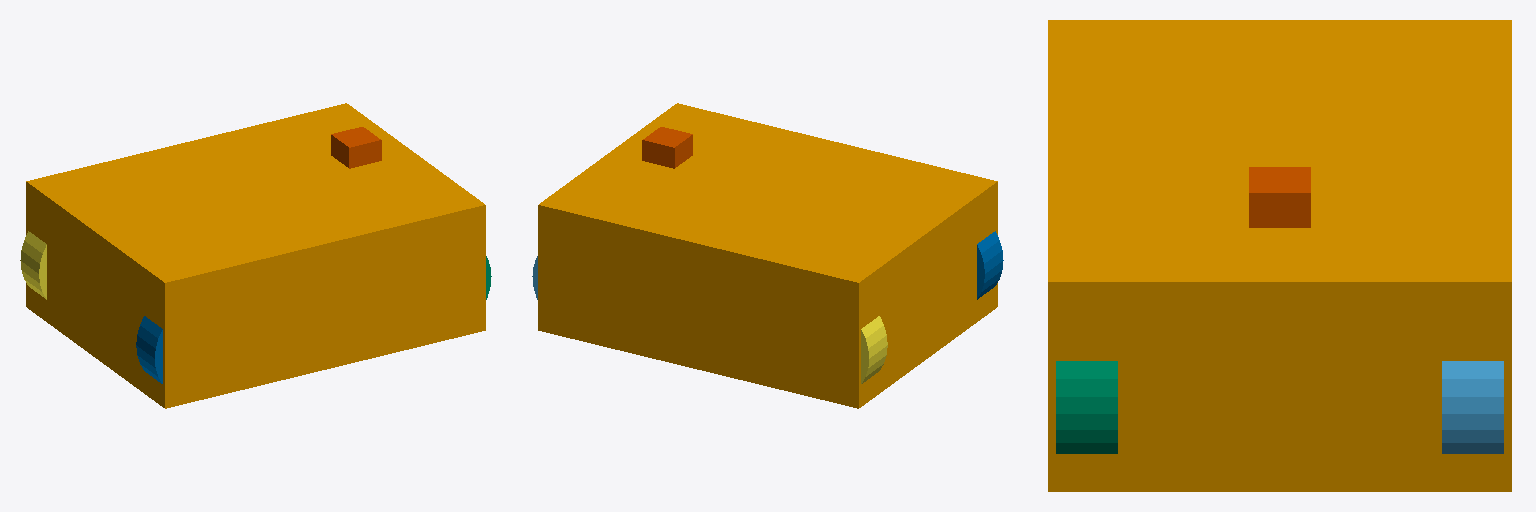
URDF robot description (mock_rover):
<?xml version="1.0" ?>
<!-- =================================================================================== -->
<!-- |    This document was autogenerated by xacro from urdf/rover.urdf.xacro          | -->
<!-- |    EDITING THIS FILE BY HAND IS NOT RECOMMENDED                                 | -->
<!-- =================================================================================== -->
<robot name="mock_rover">
  <link name="base_link">
    <inertial>
      <origin xyz="0 0 0"/>
      <mass value="30"/>
      <inertia ixx="2.0" ixy="0" ixz="0" iyy="2.0" iyz="0" izz="2.0"/>
    </inertial>
    <visual>
      <origin xyz="0 0 0.15"/>
      <geometry>
        <box size="0.8 0.6 0.3"/>
      </geometry>
    </visual>
    <collision>
      <origin xyz="0 0 0.15"/>
      <geometry>
        <box size="0.8 0.6 0.3"/>
      </geometry>
    </collision>
  </link>
  <link name="front_left_wheel">
    <visual>
      <origin rpy="1.5708 0 0"/>
      <geometry>
        <cylinder length="0.08" radius="0.12"/>
      </geometry>
    </visual>
    <collision>
      <origin rpy="1.5708 0 0"/>
      <geometry>
        <cylinder length="0.08" radius="0.12"/>
      </geometry>
    </collision>
    <inertial>
      <mass value="1"/>
      <origin xyz="0 0 0"/>
      <inertia ixx="0.01" ixy="0" ixz="0" iyy="0.01" iyz="0" izz="0.01"/>
    </inertial>
  </link>
  <joint name="front_left_joint" type="continuous">
    <parent link="base_link"/>
    <child link="front_left_wheel"/>
    <origin xyz="0.3 0.25 0.12"/>
    <axis xyz="0 1 0"/>
  </joint>
  <link name="front_right_wheel">
    <visual>
      <origin rpy="1.5708 0 0"/>
      <geometry>
        <cylinder length="0.08" radius="0.12"/>
      </geometry>
    </visual>
    <collision>
      <origin rpy="1.5708 0 0"/>
      <geometry>
        <cylinder length="0.08" radius="0.12"/>
      </geometry>
    </collision>
    <inertial>
      <mass value="1"/>
      <origin xyz="0 0 0"/>
      <inertia ixx="0.01" ixy="0" ixz="0" iyy="0.01" iyz="0" izz="0.01"/>
    </inertial>
  </link>
  <joint name="front_right_joint" type="continuous">
    <parent link="base_link"/>
    <child link="front_right_wheel"/>
    <origin xyz="0.3 -0.25 0.12"/>
    <axis xyz="0 1 0"/>
  </joint>
  <link name="rear_left_wheel">
    <visual>
      <origin rpy="1.5708 0 0"/>
      <geometry>
        <cylinder length="0.08" radius="0.12"/>
      </geometry>
    </visual>
    <collision>
      <origin rpy="1.5708 0 0"/>
      <geometry>
        <cylinder length="0.08" radius="0.12"/>
      </geometry>
    </collision>
    <inertial>
      <mass value="1"/>
      <origin xyz="0 0 0"/>
      <inertia ixx="0.01" ixy="0" ixz="0" iyy="0.01" iyz="0" izz="0.01"/>
    </inertial>
  </link>
  <joint name="rear_left_joint" type="continuous">
    <parent link="base_link"/>
    <child link="rear_left_wheel"/>
    <origin xyz="-0.3 0.25 0.12"/>
    <axis xyz="0 1 0"/>
  </joint>
  <link name="rear_right_wheel">
    <visual>
      <origin rpy="1.5708 0 0"/>
      <geometry>
        <cylinder length="0.08" radius="0.12"/>
      </geometry>
    </visual>
    <collision>
      <origin rpy="1.5708 0 0"/>
      <geometry>
        <cylinder length="0.08" radius="0.12"/>
      </geometry>
    </collision>
    <inertial>
      <mass value="1"/>
      <origin xyz="0 0 0"/>
      <inertia ixx="0.01" ixy="0" ixz="0" iyy="0.01" iyz="0" izz="0.01"/>
    </inertial>
  </link>
  <joint name="rear_right_joint" type="continuous">
    <parent link="base_link"/>
    <child link="rear_right_wheel"/>
    <origin xyz="-0.3 -0.25 0.12"/>
    <axis xyz="0 1 0"/>
  </joint>
  <link name="depth_camera_link">
    <inertial>
      <mass value="0.1"/>
      <origin xyz="0 0 0"/>
      <inertia ixx="0.0001" ixy="0.0" ixz="0.0" iyy="0.0001" iyz="0.0" izz="0.0001"/>
    </inertial>
    <visual>
      <geometry>
        <box size="0.08 0.08 0.05"/>
      </geometry>
    </visual>
    <collision>
      <geometry>
        <box size="0.08 0.08 0.05"/>
      </geometry>
    </collision>
  </link>
  <joint name="depth_camera_joint" type="fixed">
    <parent link="base_link"/>
    <child link="depth_camera_link"/>
    <origin xyz="0.25 0 0.35"/>
  </joint>
  <gazebo reference="depth_camera_link">
    <sensor name="depth_camera" type="depth_camera">
      <always_on>true</always_on>
      <visualize>true</visualize>
      <update_rate>30</update_rate>
      <camera>
        <horizontal_fov>1.9</horizontal_fov>
        <image>
          <width>640</width>
          <height>480</height>
        </image>
        <clip>
          <near>0.1</near>
          <far>20.0</far>
        </clip>
      </camera>
    </sensor>
  </gazebo>
  <gazebo>
    <plugin filename="gz-sim-diff-drive-system" name="gz::sim::systems::DiffDrive">
      <left_joint>front_left_joint</left_joint>
      <left_joint>rear_left_joint</left_joint>
      <right_joint>front_right_joint</right_joint>
      <right_joint>rear_right_joint</right_joint>
      <wheel_separation>0.5</wheel_separation>
      <wheel_radius>0.12</wheel_radius>
      <topic>/cmd_vel</topic>
      <odom_topic>/odom</odom_topic>
      <tf_topic>/tf</tf_topic>
    </plugin>
  </gazebo>
  <ros2_control name="MockRobotHardware" type="system">
    <hardware>
      <plugin>mock_components/GenericSystem</plugin>
    </hardware>
    <joint name="front_left_joint">
      <command_interface name="velocity"/>
      <state_interface name="velocity"/>
      <state_interface name="position"/>
    </joint>
    <joint name="front_right_joint">
      <command_interface name="velocity"/>
      <state_interface name="velocity"/>
      <state_interface name="position"/>
    </joint>
    <joint name="rear_left_joint">
      <command_interface name="velocity"/>
      <state_interface name="velocity"/>
      <state_interface name="position"/>
    </joint>
    <joint name="rear_right_joint">
      <command_interface name="velocity"/>
      <state_interface name="velocity"/>
      <state_interface name="position"/>
    </joint>
  </ros2_control>
</robot>

--- What the picture shows (computed from the rendered views, not written in the file) ---
Views: 3 orthographic renders of the robot side by side, from view 1: azimuth 30°, elevation 25°; view 2: azimuth 150°, elevation 25°; view 3: azimuth 270°, elevation 25°.
Robot: mock_rover — 6 links, 5 joints (4 continuous, 1 fixed); root link base_link; default pose: all joints at 0.
Links seen in each view (by area): view 1: base_link, depth_camera_link, rear_right_wheel, rear_left_wheel; view 2: base_link, depth_camera_link, rear_left_wheel, rear_right_wheel; view 3: base_link, front_left_wheel, front_right_wheel, depth_camera_link.
Boxes of the visible links, left/top/right/bottom form: base_link: left=26, top=103, right=485, bottom=408; depth_camera_link: left=331, top=127, right=381, bottom=168; rear_right_wheel: left=136, top=316, right=162, bottom=383; rear_left_wheel: left=20, top=231, right=46, bottom=299; base_link: left=538, top=103, right=997, bottom=408; depth_camera_link: left=642, top=127, right=692, bottom=168; rear_left_wheel: left=861, top=316, right=887, bottom=383; rear_right_wheel: left=977, top=231, right=1003, bottom=299; base_link: left=1048, top=20, right=1511, bottom=491; front_left_wheel: left=1442, top=361, right=1503, bottom=453; front_right_wheel: left=1056, top=361, right=1117, bottom=453; depth_camera_link: left=1249, top=167, right=1310, bottom=227.
Bounding box of the posed robot: 0.84 × 0.6 × 0.375 m (x, y, z).
Geometry: primitives only (box / cylinder / sphere), no mesh files.
